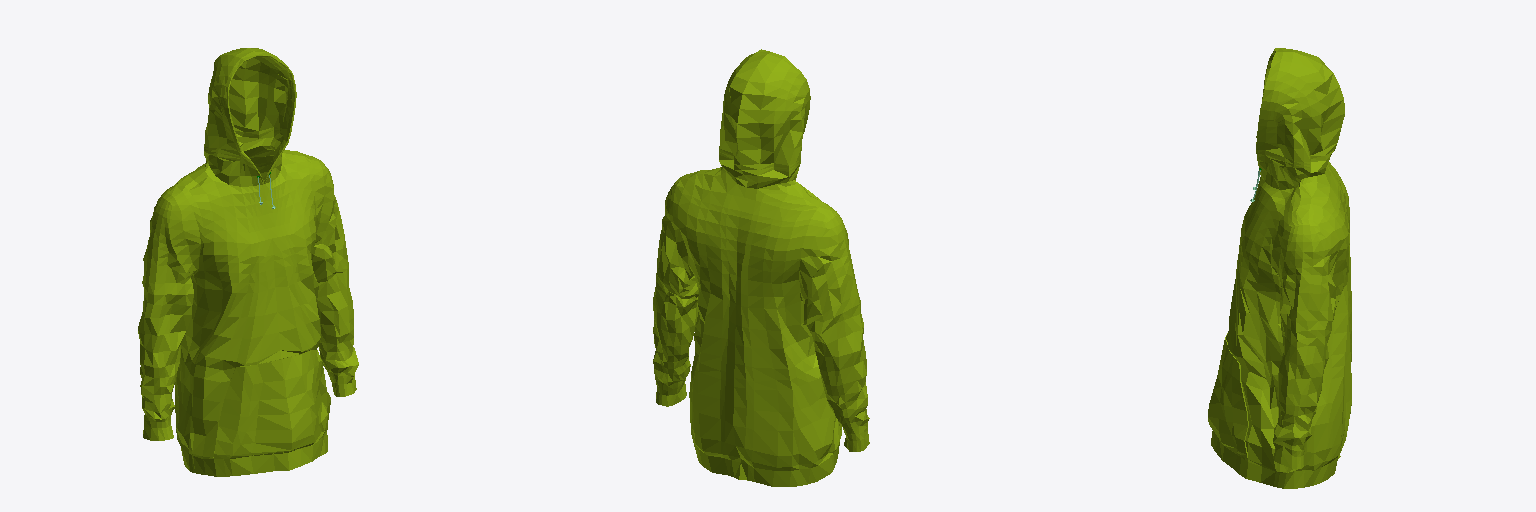
Rendered from hoodie_lp__.obj.
The picture shows the model from 3 angles: view 1: azimuth 30°, elevation 25°; view 2: azimuth 150°, elevation 25°; view 3: azimuth 270°, elevation 25°; orthographic projection.
Visible parts, largest first — view 1: Body_lp, bottom_cuff, sleeve_cuffs; view 2: Body_lp, bottom_cuff, sleeve_cuffs; view 3: Body_lp, bottom_cuff, sleeve_cuffs.
Part boxes in pixels (left/top/right/bottom): Body_lp: left=138, top=48, right=358, bottom=458; bottom_cuff: left=181, top=434, right=327, bottom=476; sleeve_cuffs: left=143, top=375, right=356, bottom=440; Body_lp: left=653, top=49, right=869, bottom=470; bottom_cuff: left=693, top=441, right=839, bottom=486; sleeve_cuffs: left=656, top=379, right=869, bottom=451; Body_lp: left=1208, top=48, right=1351, bottom=472; bottom_cuff: left=1211, top=431, right=1340, bottom=488; sleeve_cuffs: left=1273, top=444, right=1304, bottom=468.
Bounding box in the file's own units: 58.45 × 106 × 34.33.